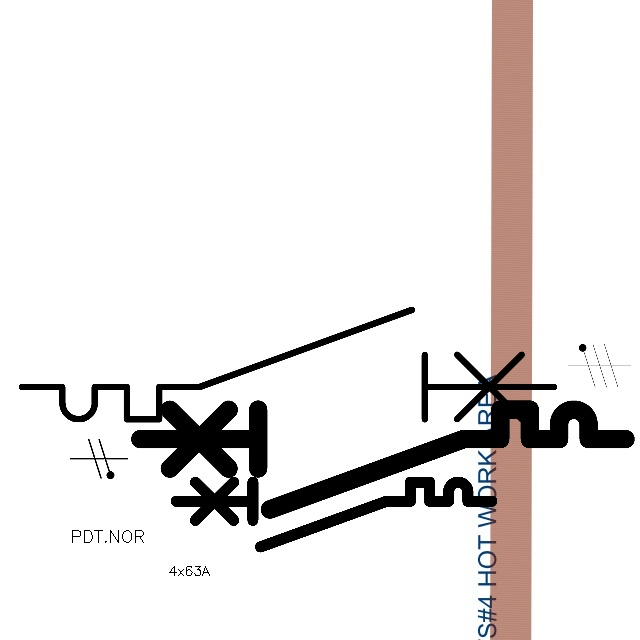interruptor_termomagnetico: (8, 296, 567, 433), (127, 397, 637, 522), (168, 474, 500, 555)
